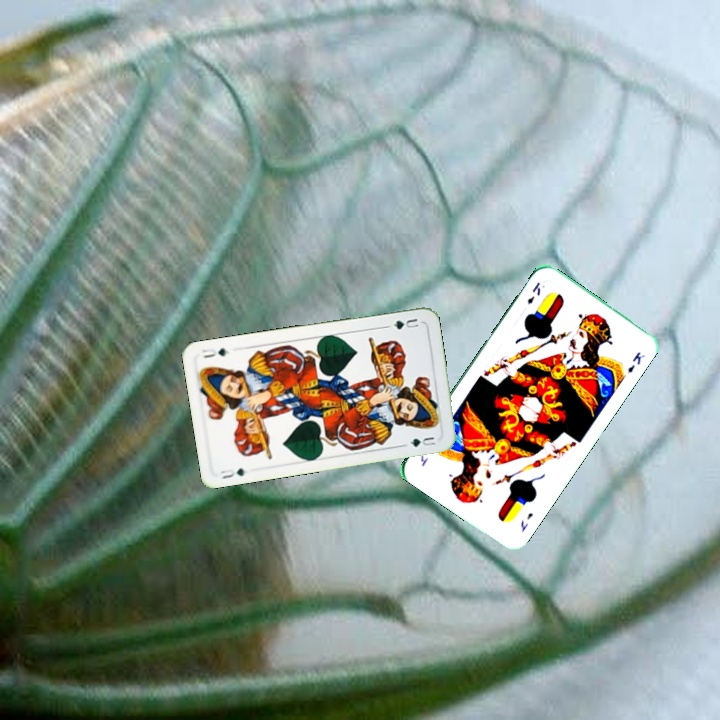EK: (523, 278, 543, 307), (516, 508, 536, 534)
GU: (389, 314, 421, 332), (216, 464, 248, 481)
